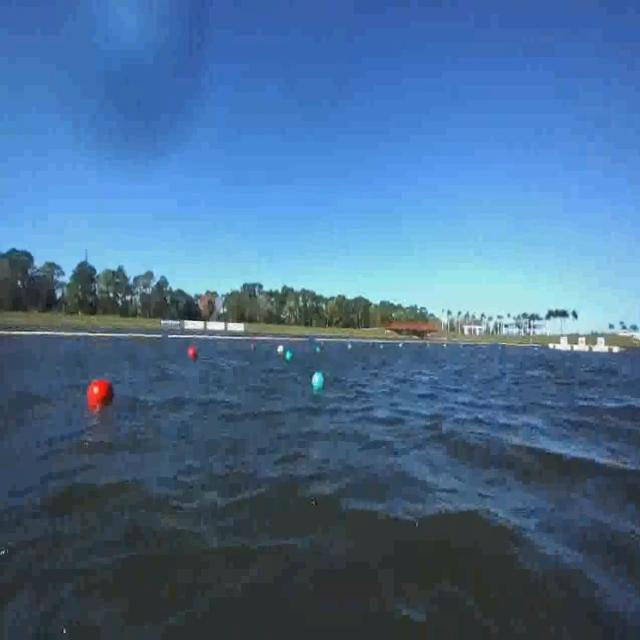green-buoy: (313, 370, 325, 393), (286, 350, 292, 362)
red-buoy: (86, 377, 113, 407), (184, 339, 202, 366)
